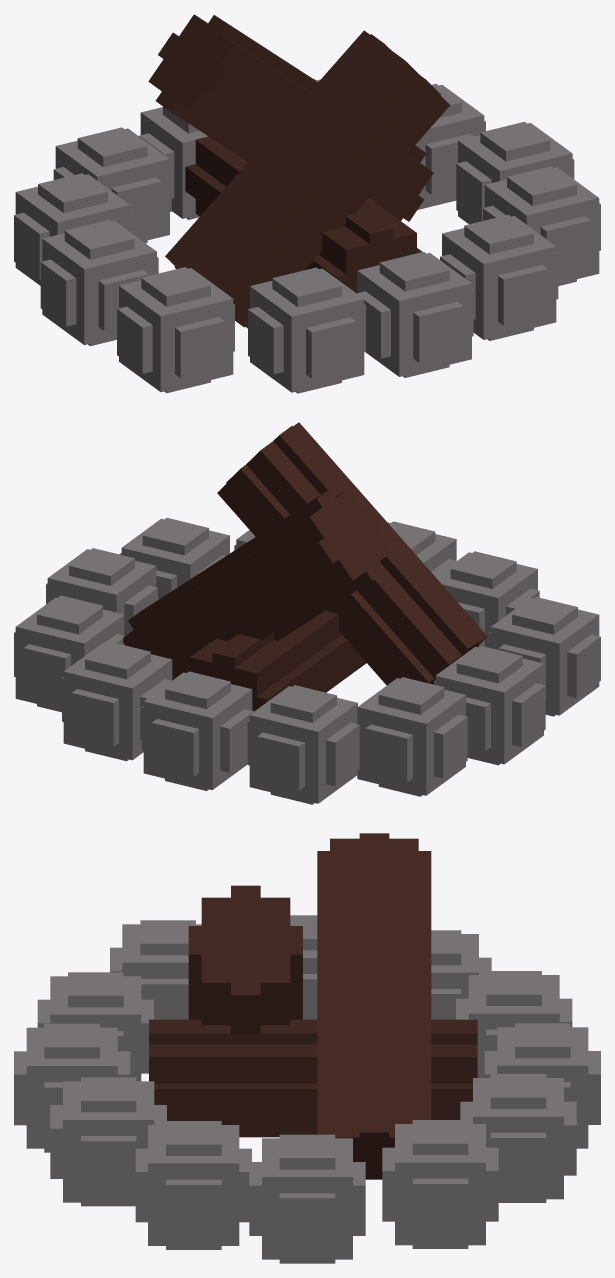
Rendered from Campfire.fbx.
3 views of the same model, one above another, from view 1: azimuth 30°, elevation 25°; view 2: azimuth 150°, elevation 25°; view 3: azimuth 270°, elevation 25° (orthographic). The views are drawn at different scales.
Visible parts, largest first — view 1: Cube; view 2: Cube; view 3: Cube.
Part boxes in pixels (x1,y1,x2,y2): Cube: (14,14,600,393); Cube: (14,422,600,804); Cube: (14,833,600,1263).
Size of the model in its own units: 195 by 94.35 by 180.
